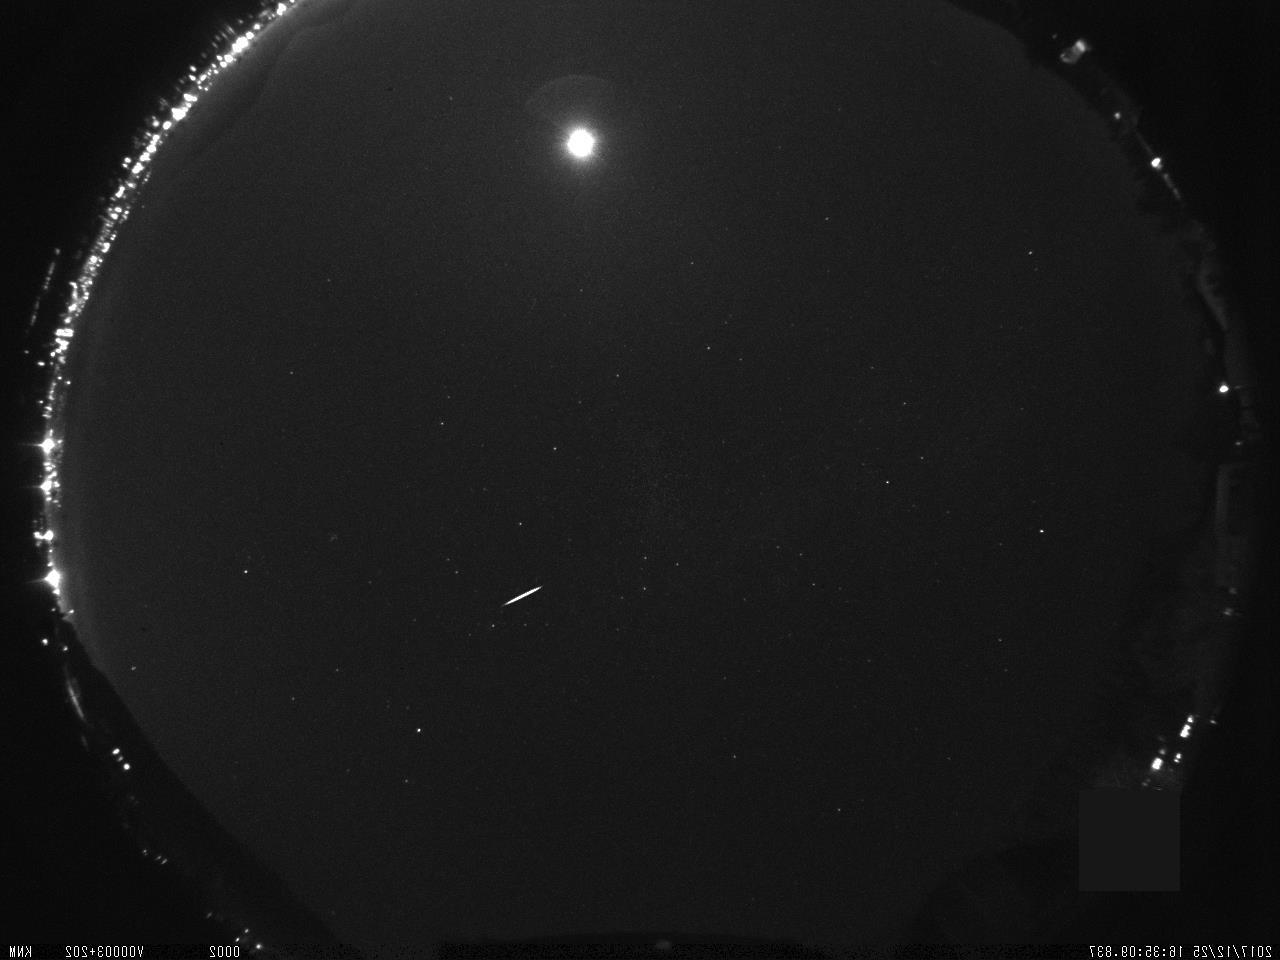meteor: (506, 584, 544, 614)
